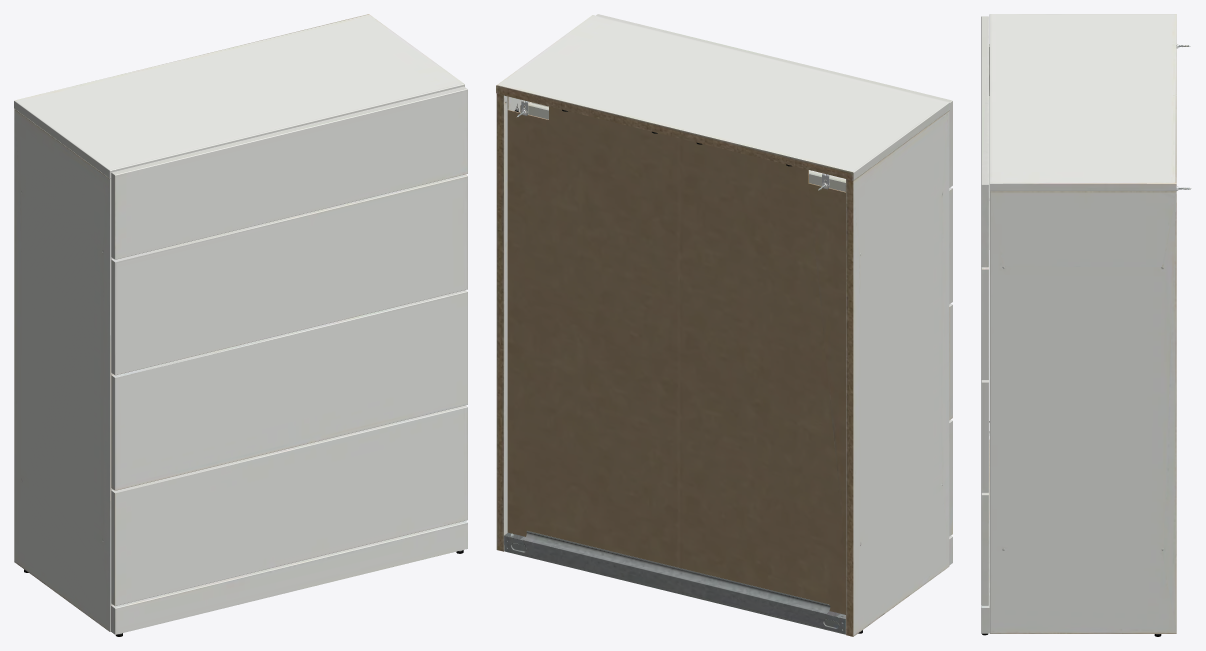
The picture shows the model from 3 angles, left to right: view 1: azimuth 30°, elevation 25°; view 2: azimuth 150°, elevation 25°; view 3: azimuth 270°, elevation 25°; orthographic projection. The views are drawn at different scales.
Visible parts, largest first — view 1: ASY_ART_60599350_S01_NV01; view 2: ASY_ART_60599350_S01_NV01; view 3: ASY_ART_60599350_S01_NV01.
Part boxes in pixels (x1=…): ASY_ART_60599350_S01_NV01: x1=14, y1=14, x2=467, y2=636; ASY_ART_60599350_S01_NV01: x1=496, y1=14, x2=952, y2=636; ASY_ART_60599350_S01_NV01: x1=981, y1=14, x2=1191, y2=636.
Bounding box in the file's own units: 0.8 × 1 × 0.42.
Materials: 1 (1 with a texture image).
